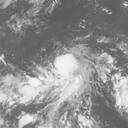cyclone: (52, 53, 80, 82)
